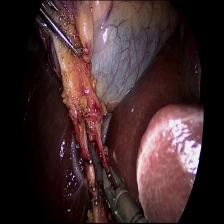Clipper: (99, 165, 138, 224)
Grasper: (39, 0, 88, 65)
